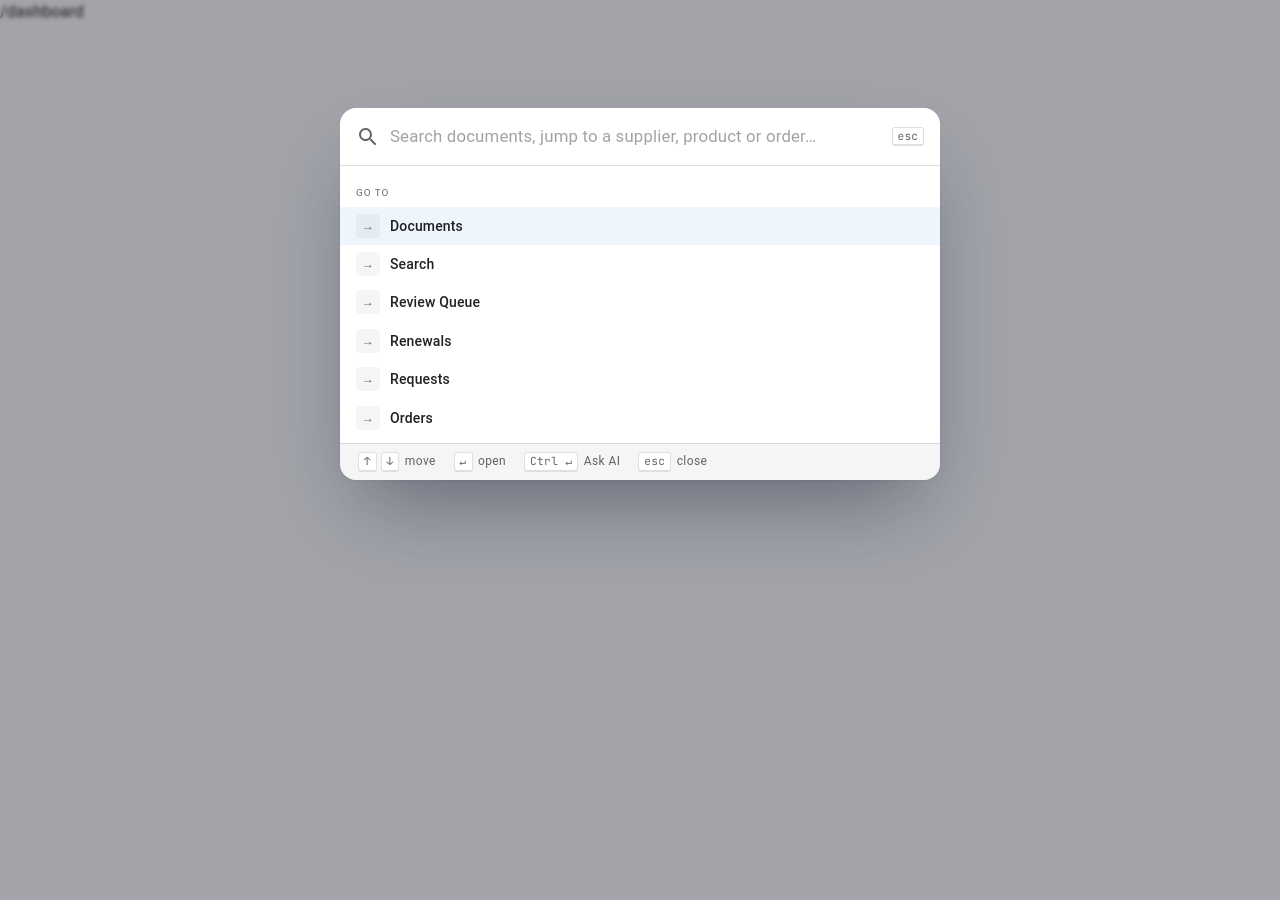
Test: CommandPalette (⌘K / Ctrl-K) › arrows move to a supplier, which opens search filtered to it
Type "dari" into the field with test id "palette-input" at (636, 137), box [390,120,882,153]
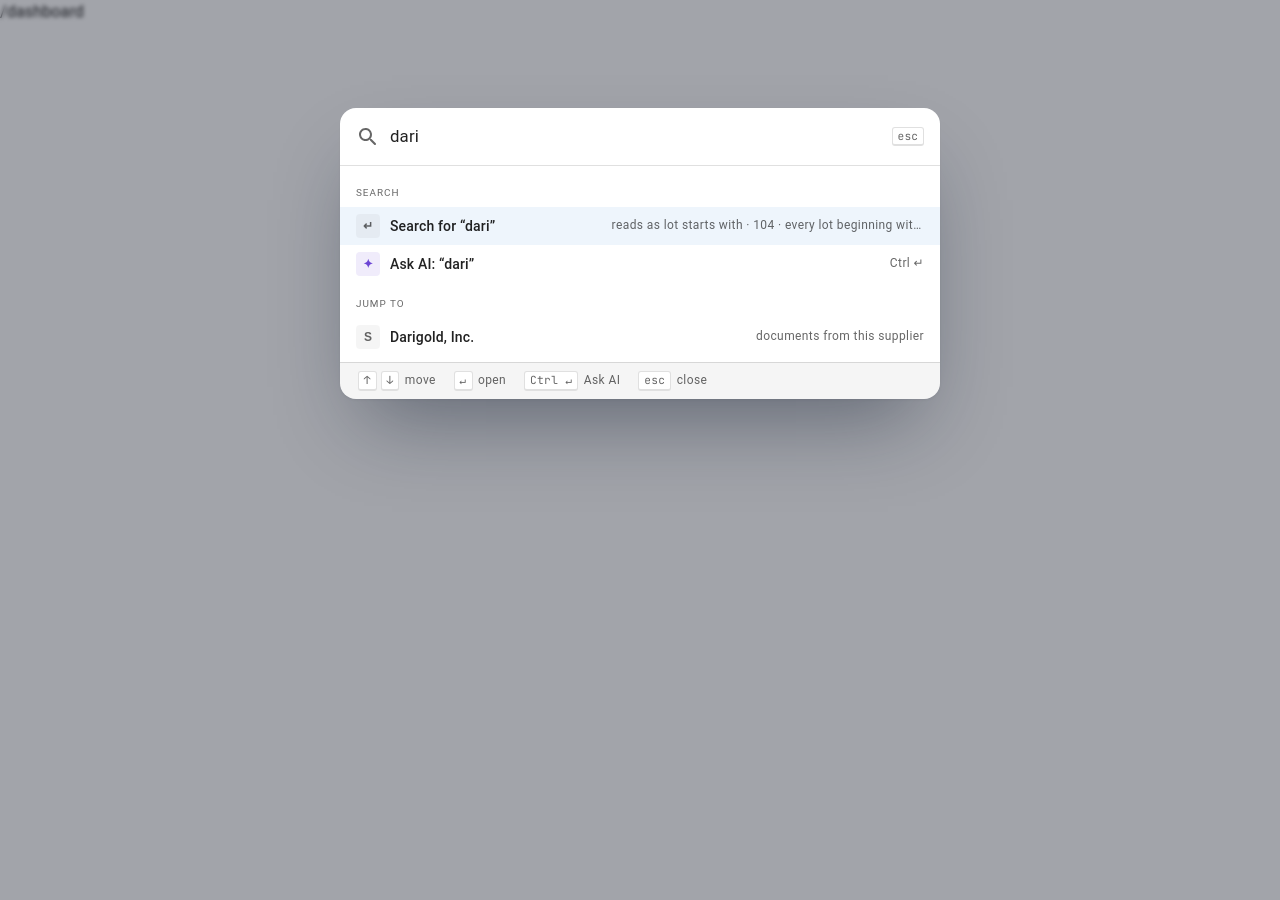
Now the text "Darigold, Inc." is shown, box [390,327,474,347]
Note: Search, Ask AI, then the supplier.
Press Arrowdown Arrowdown Enter
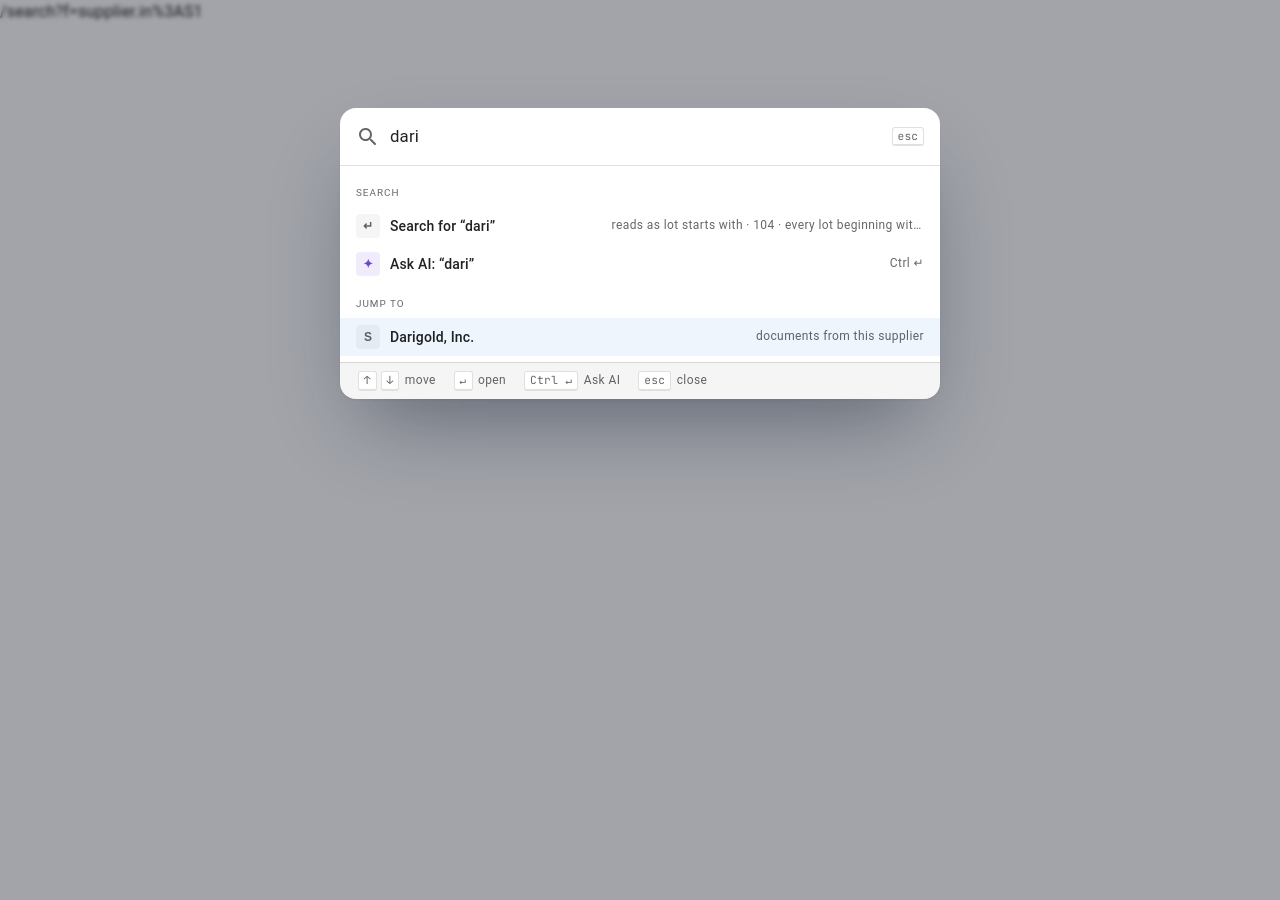
Now the text with test id "where" shows "f=supplier.in%3AS1", box [0,2,203,21]
